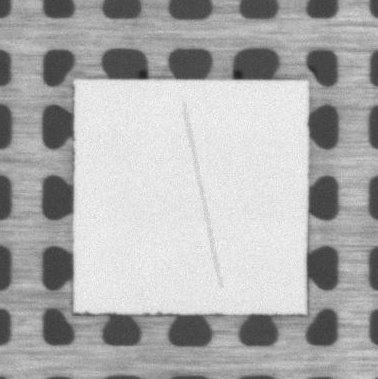DIE_CRACK: (184, 104, 220, 287)
